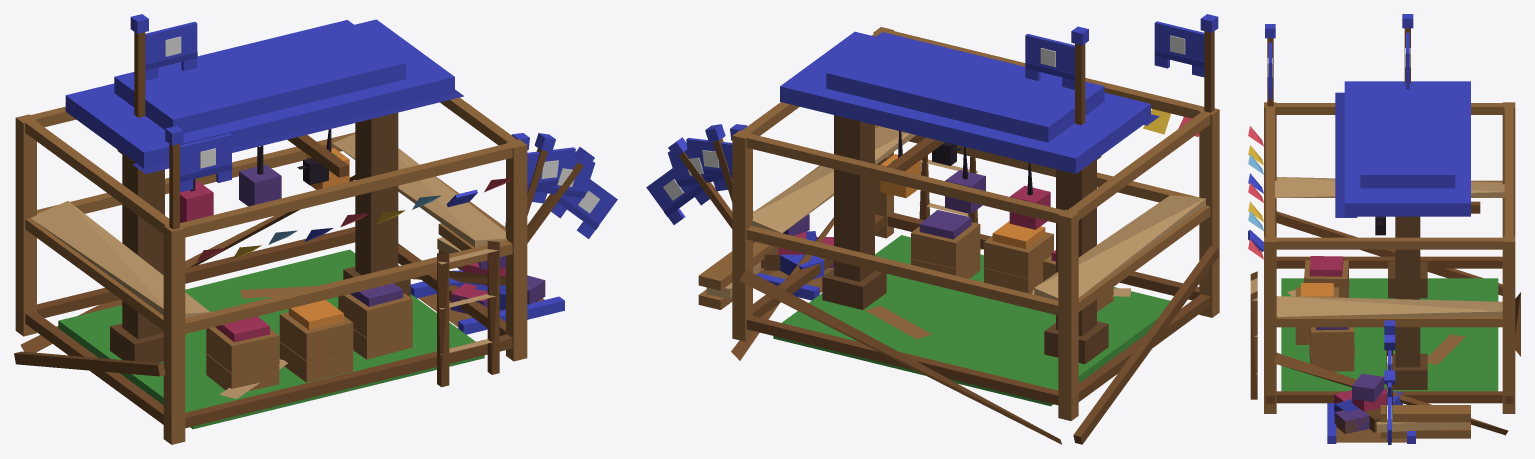
The model's file is bat-producer.glb.
3 renders of one model, left to right at view 1: azimuth 30°, elevation 25°; view 2: azimuth 150°, elevation 25°; view 3: azimuth 270°, elevation 25°, orthographic. The views are drawn at different scales.
Parts seen in each view (by area): view 1: scaffold-mesh, built-mesh, dismantle-75-mesh, dismantle-50-mesh, dismantle-25-mesh, banner, scaffold-banner, dismantle-25-banner, flag-pole, dismantle-75-banner, scaffold-flag-pole, dismantle-50-banner (+2 smaller); view 2: scaffold-mesh, built-mesh, dismantle-75-mesh, dismantle-50-mesh, scaffold-banner, banner, dismantle-25-mesh, dismantle-25-banner, dismantle-50-banner, scaffold-flag-pole, dismantle-75-banner, flag-pole (+2 smaller); view 3: scaffold-mesh, built-mesh, dismantle-50-mesh, dismantle-25-mesh, dismantle-75-mesh, scaffold-flag-pole, flag-pole, scaffold-banner, banner.
Part boxes in pixels (<box>): scaffold-mesh: <box>14,97,527,444</box>; built-mesh: <box>58,19,463,428</box>; dismantle-75-mesh: <box>134,121,564,391</box>; dismantle-50-mesh: <box>110,193,564,398</box>; dismantle-25-mesh: <box>135,256,564,387</box>; banner: <box>145,21,197,80</box>; scaffold-banner: <box>180,133,232,192</box>; dismantle-25-banner: <box>551,179,617,238</box>; flag-pole: <box>130,14,148,117</box>; dismantle-75-banner: <box>527,147,575,191</box>; scaffold-flag-pole: <box>165,126,183,229</box>; dismantle-50-banner: <box>532,157,595,208</box>; scaffold-mesh: <box>698,27,1219,444</box>; built-mesh: <box>780,31,1159,406</box>; dismantle-75-mesh: <box>756,125,1081,335</box>; dismantle-50-mesh: <box>761,193,1130,340</box>; scaffold-banner: <box>1154,21,1204,77</box>; banner: <box>1025,33,1074,89</box>; dismantle-25-mesh: <box>762,214,1081,339</box>; dismantle-25-banner: <box>646,163,709,224</box>; dismantle-50-banner: <box>668,146,727,195</box>; scaffold-flag-pole: <box>1200,14,1218,112</box>; dismantle-75-banner: <box>686,138,732,179</box>; flag-pole: <box>1071,26,1088,125</box>; scaffold-mesh: <box>1248,102,1520,438</box>; built-mesh: <box>1301,81,1480,367</box>; dismantle-50-mesh: <box>1287,261,1427,443</box>; dismantle-25-mesh: <box>1327,284,1464,442</box>; dismantle-75-mesh: <box>1296,266,1427,443</box>; scaffold-flag-pole: <box>1265,24,1275,106</box>; flag-pole: <box>1402,14,1413,83</box>; scaffold-banner: <box>1267,42,1272,99</box>; banner: <box>1405,32,1410,89</box>.
Size of the model in its own units: 2.72 by 1.85 by 1.51.
